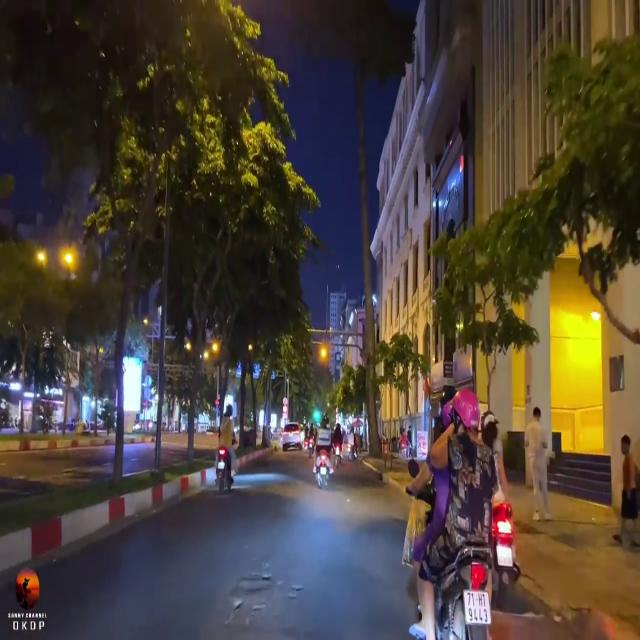bien_trang: (466, 592, 495, 623)
